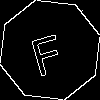F: (25, 25, 67, 77)
